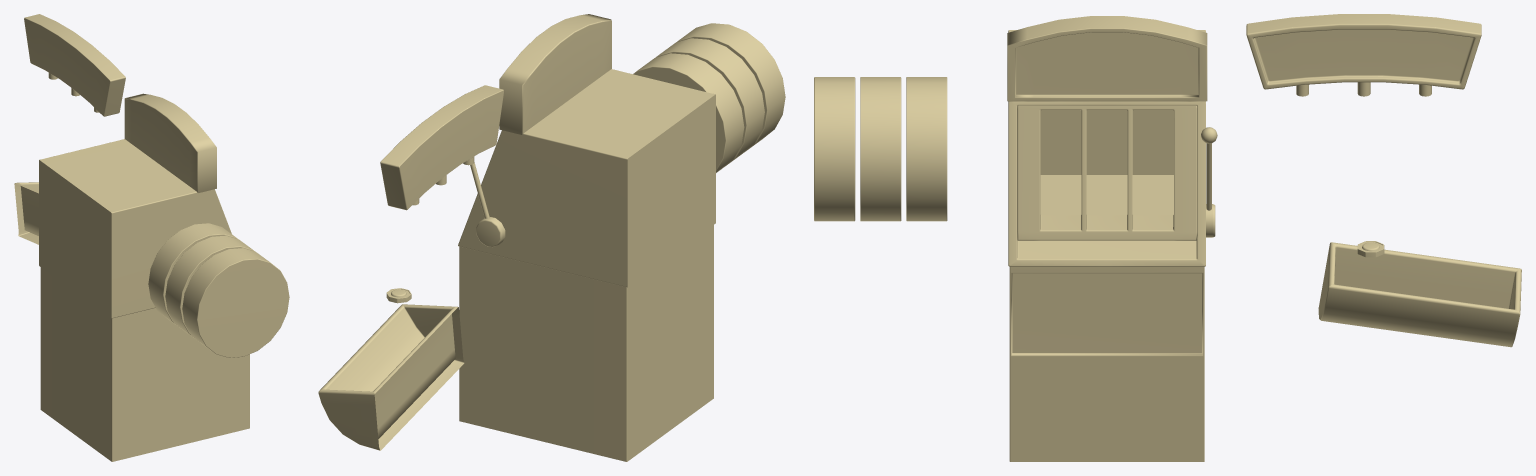
The model's file is slotmachine.fbx.
The picture shows the model from 3 angles, left to right: view 1: azimuth 30°, elevation 25°; view 2: azimuth 150°, elevation 25°; view 3: azimuth 270°, elevation 25°; orthographic projection. The views are drawn at different scales.
Parts seen in each view (by area): view 1: Slot_Machine_Base, Slot_Wheel1, SlotMachine_Top, Slot_Wheel3, Slot_Wheel2, Coin_Tray; view 2: Slot_Machine_Base, Coin_Tray, SlotMachine_Top, Slot_Wheel3, Slot_Wheel1, Slot_Wheel2, Pivot; view 3: Slot_Machine_Base, SlotMachine_Top, Coin_Tray, Slot_Wheel3, Slot_Wheel2, Slot_Wheel1.
Boxes of the visible parts, <box> form: Slot_Machine_Base: <box>39,93,249,461</box>; Slot_Wheel1: <box>182,248,289,357</box>; SlotMachine_Top: <box>24,14,125,116</box>; Slot_Wheel3: <box>148,223,237,328</box>; Slot_Wheel2: <box>165,235,254,340</box>; Coin_Tray: <box>14,182,38,244</box>; Slot_Machine_Base: <box>458,14,715,461</box>; Coin_Tray: <box>318,304,464,450</box>; SlotMachine_Top: <box>380,85,503,210</box>; Slot_Wheel3: <box>633,53,744,172</box>; Slot_Wheel1: <box>676,23,785,151</box>; Slot_Wheel2: <box>656,38,764,166</box>; Pivot: <box>476,217,505,247</box>; Slot_Machine_Base: <box>1007,16,1207,461</box>; SlotMachine_Top: <box>1246,14,1481,96</box>; Coin_Tray: <box>1318,242,1521,347</box>; Slot_Wheel3: <box>906,77,947,221</box>; Slot_Wheel2: <box>860,77,901,221</box>; Slot_Wheel1: <box>814,77,855,221</box>.
Bounding box in the file's own units: 1 × 2.07 × 3.22.
